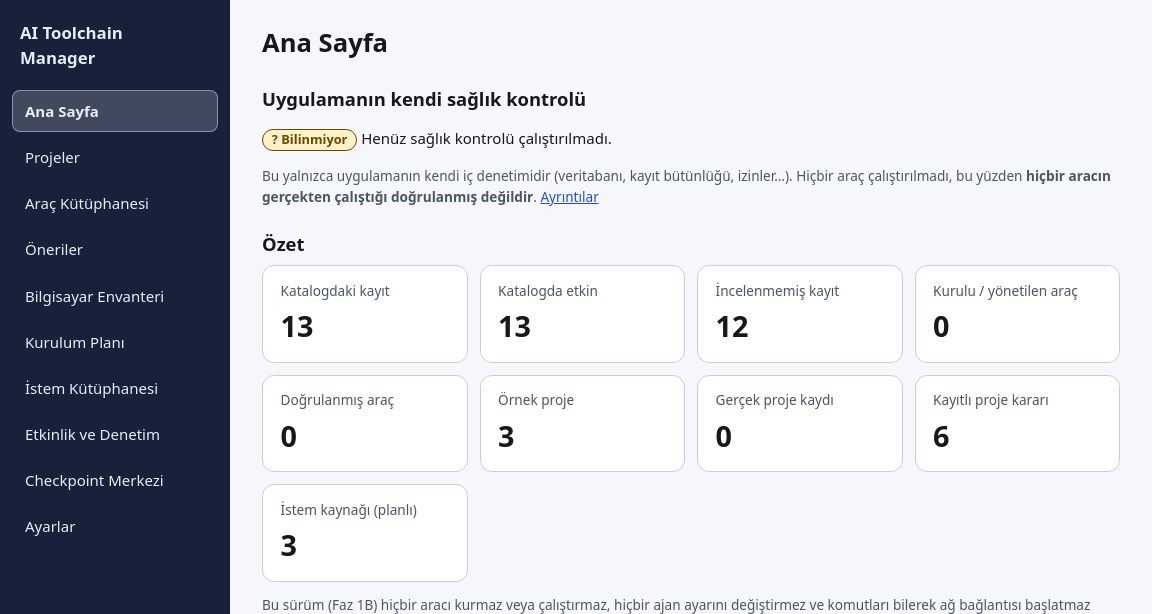
it: rows: real projects only, one ATM row › an alias or display name that looks like the ATM repository does not make an ATM row
The width and height of the screenshot is (1152, 614).
What coordinates should you click on to do the following:
click the button "Checkpoint Merkezi"
I would click on:
 (115, 480)
Its box is [12,459,218,501].
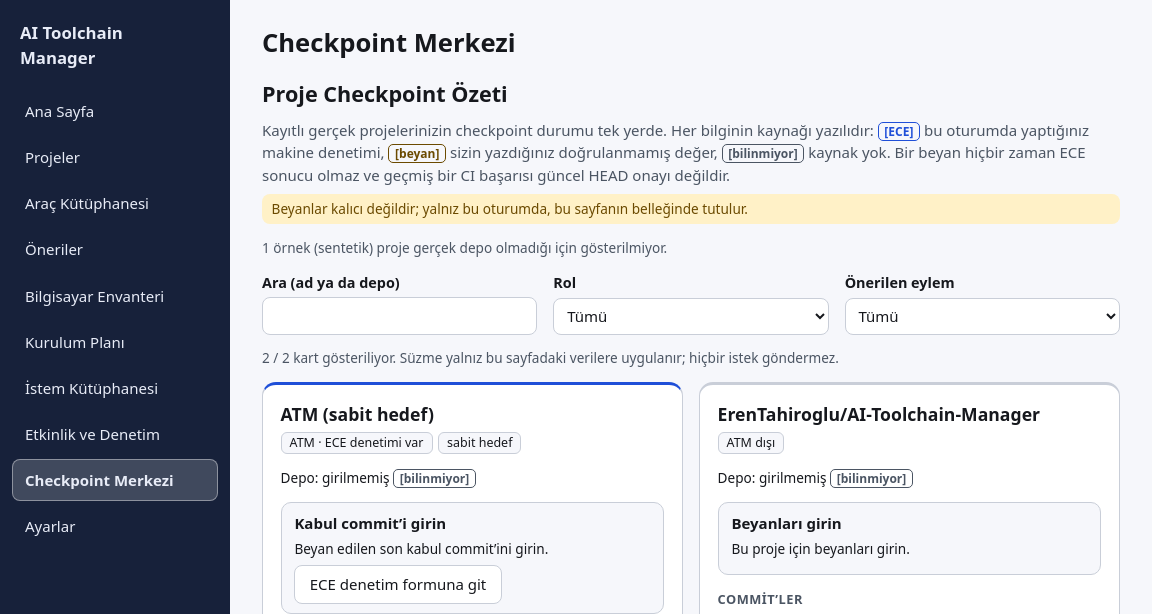
Expected: the heading "Checkpoint Merkezi" is shown, [262,25,516,60]
Expected: the heading "Proje Checkpoint Özeti" is shown, [262,79,508,108]
Expected: the heading "ATM (sabit hedef)" is shown, [281,402,434,426]
